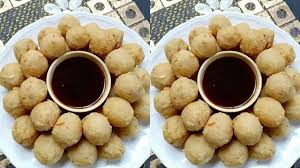Pempek adaan: (203, 112, 236, 147), (15, 77, 51, 108), (30, 98, 62, 132), (31, 133, 66, 163), (169, 74, 198, 110), (254, 96, 287, 127), (233, 111, 262, 146), (55, 110, 82, 146), (180, 101, 211, 132), (184, 133, 214, 165), (17, 48, 49, 77), (162, 116, 190, 149), (97, 131, 125, 163), (84, 114, 112, 145), (172, 47, 200, 78), (265, 73, 295, 101), (219, 140, 250, 167), (106, 48, 138, 74), (39, 33, 72, 58), (68, 141, 101, 166), (116, 73, 143, 103), (62, 23, 92, 50), (105, 96, 131, 127), (10, 113, 35, 145), (261, 46, 290, 73), (1, 89, 31, 115), (153, 87, 180, 115), (249, 134, 276, 162), (90, 28, 116, 56), (189, 33, 217, 58), (241, 28, 266, 56), (153, 62, 178, 89), (218, 21, 240, 51), (162, 36, 189, 60), (0, 59, 22, 88), (120, 114, 140, 139), (12, 39, 38, 58), (208, 14, 231, 35), (58, 13, 80, 34)
